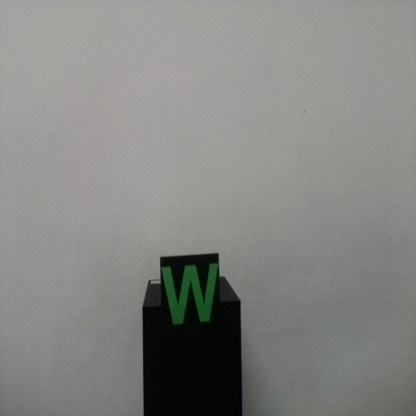id_12: (160, 256, 221, 338)
